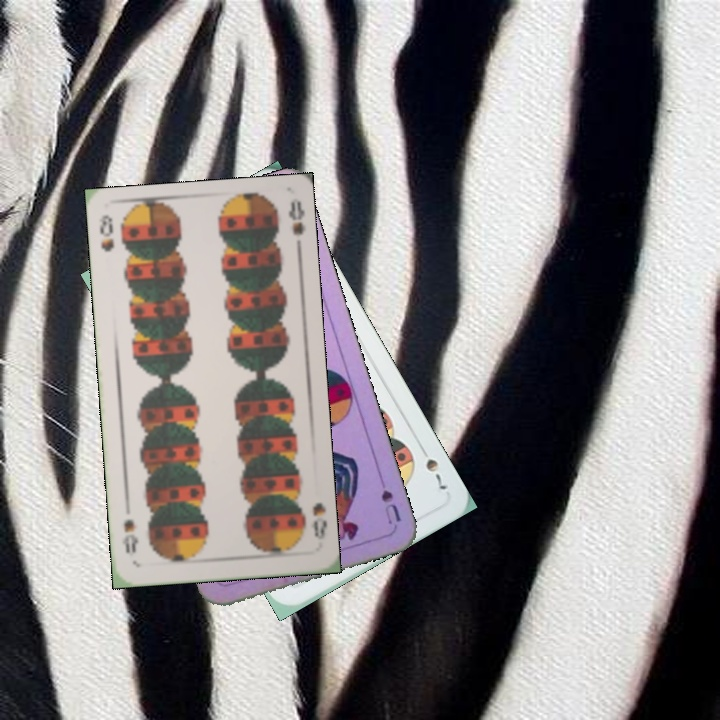S7: (415, 441, 451, 493)
S8: (95, 212, 117, 255), (308, 498, 329, 542)
SU: (374, 468, 404, 527)
